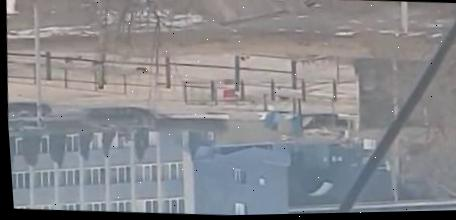tank: (83, 102, 157, 139), (299, 110, 361, 150), (7, 100, 52, 138)
